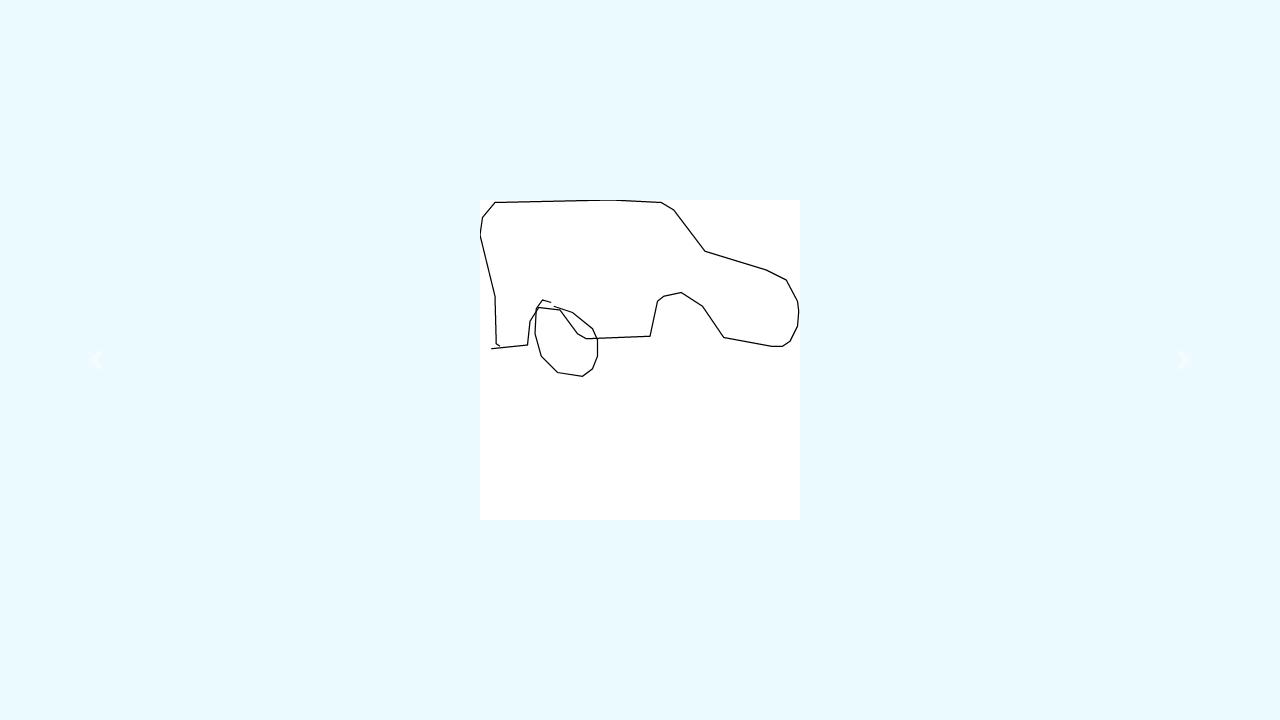car: (475, 196, 805, 383)
